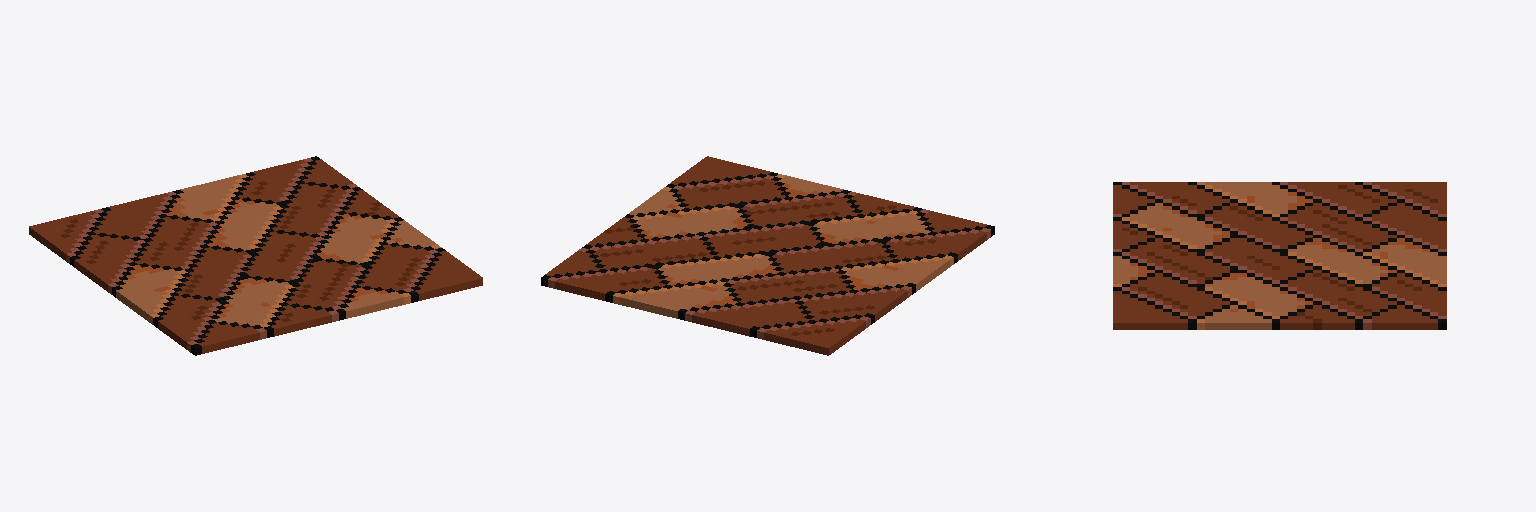
The picture shows the model from 3 angles: view 1: azimuth 30°, elevation 25°; view 2: azimuth 150°, elevation 25°; view 3: azimuth 270°, elevation 25°; orthographic projection.
Parts seen in each view (by area): view 1: object 1; view 2: object 1; view 3: object 1.
Part boxes in pixels (left/top/right/bottom): object 1: left=29, top=156, right=482, bottom=355; object 1: left=541, top=156, right=994, bottom=355; object 1: left=1113, top=182, right=1446, bottom=329.
Bounding box in the file's own units: 4 × 0.1 × 4.
1 materials, 1 textured.